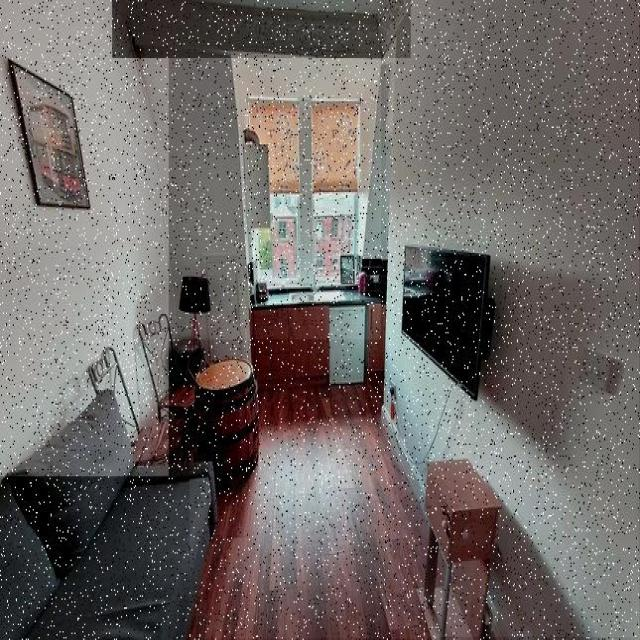Wall: (386, 0, 640, 637), (0, 2, 169, 476), (137, 48, 381, 339), (190, 380, 428, 639), (113, 0, 411, 58)
